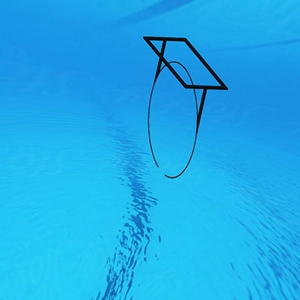circle: (140, 29, 229, 180)
